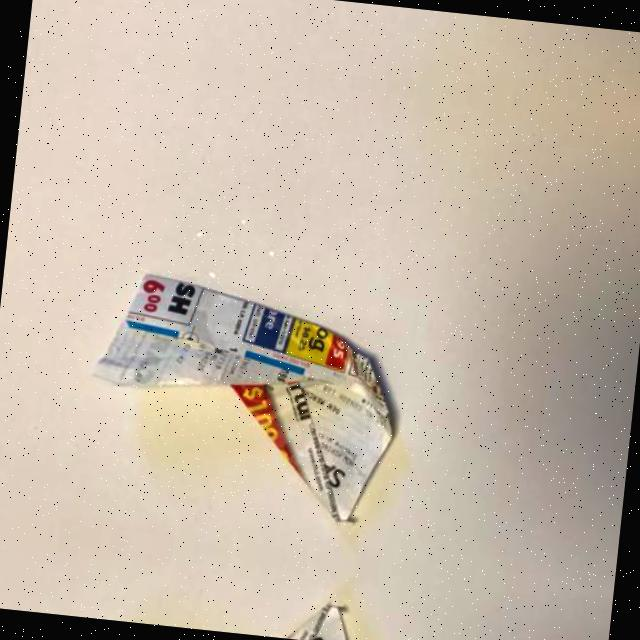paper: (44, 235, 446, 554), (34, 548, 413, 640)
